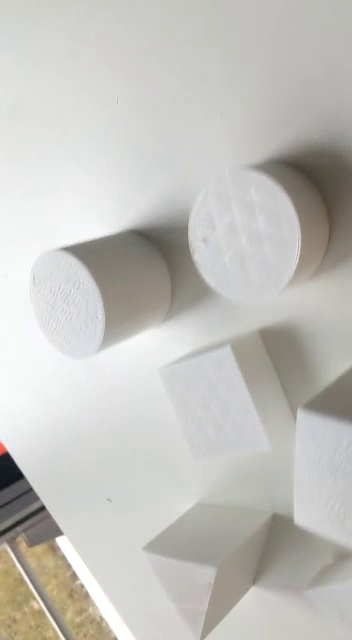Clyinder_short: (180, 155, 336, 308)
Cube: (288, 361, 352, 556)
Cube_short: (158, 327, 314, 476)
Cylinder: (28, 229, 172, 363)
Triangle: (142, 494, 280, 640)
